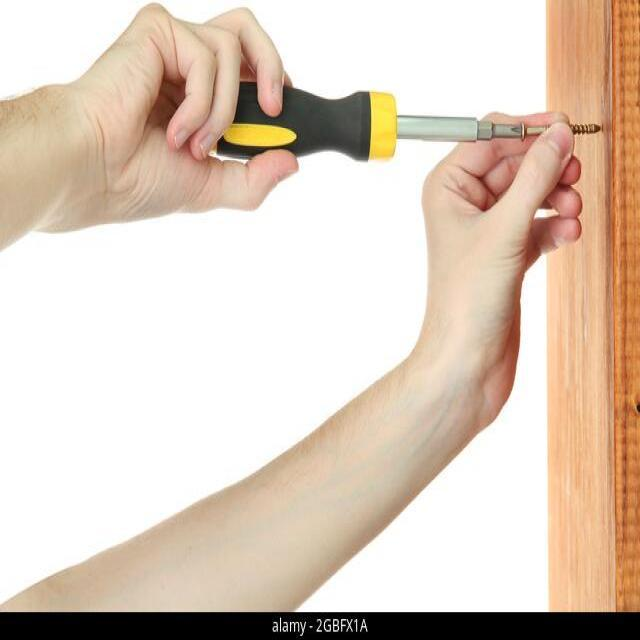screwdriver: (197, 82, 526, 170)
